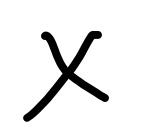mult: (24, 31, 109, 122)
